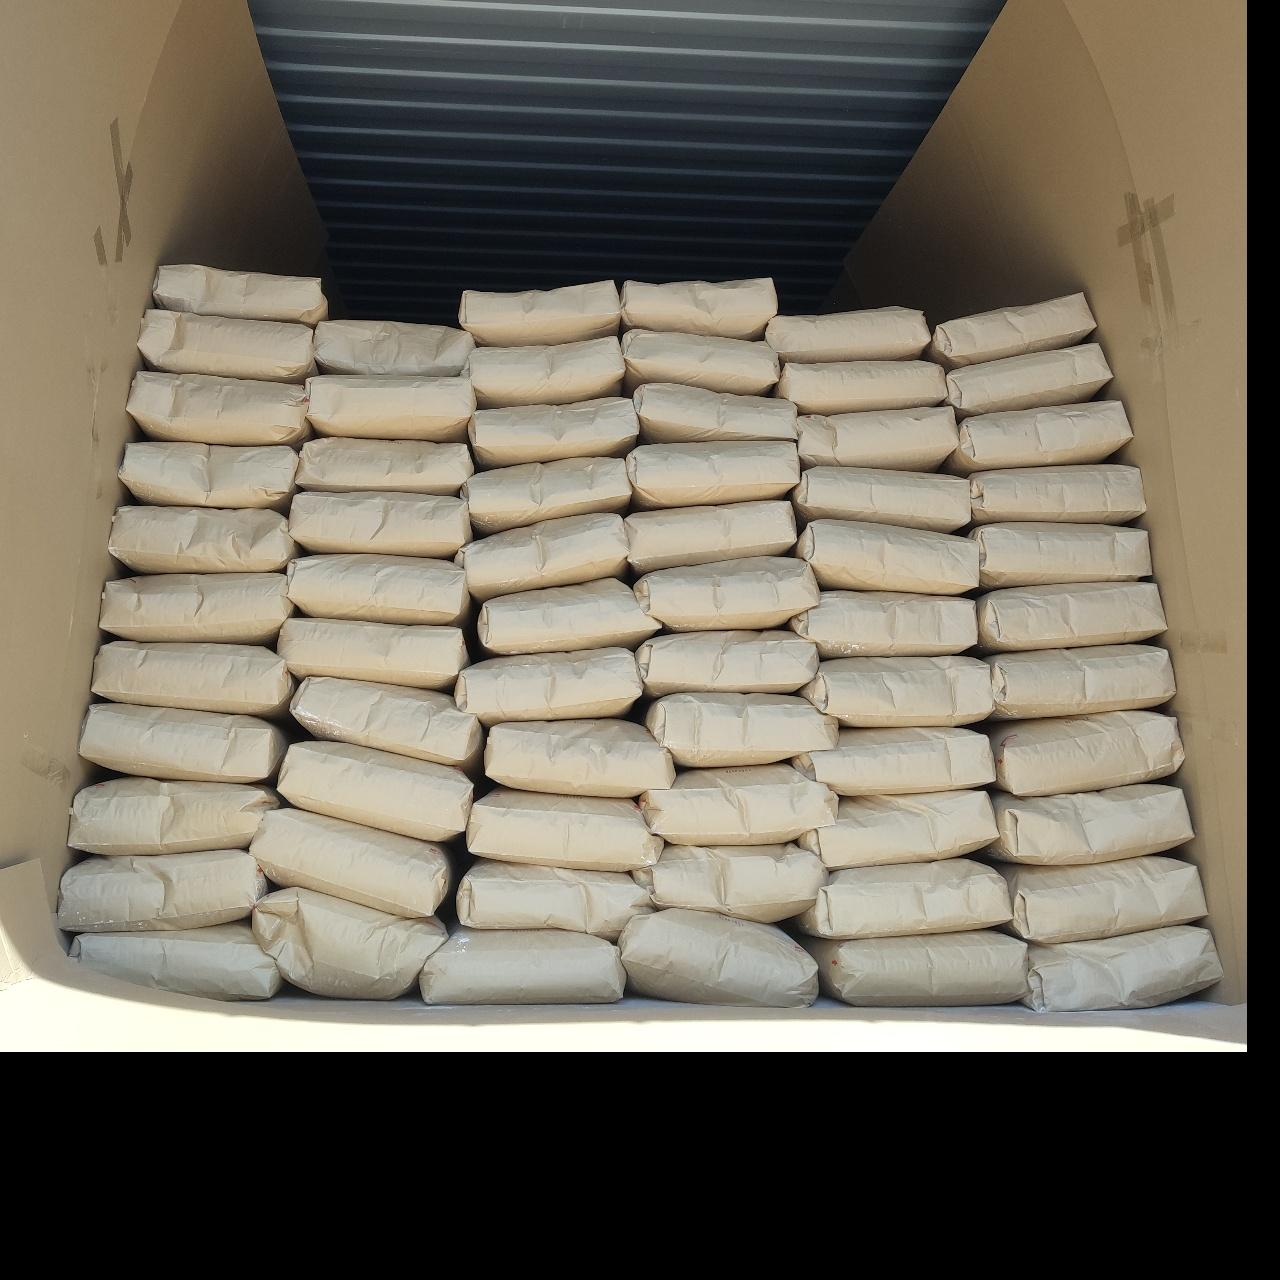sack: (252, 808, 452, 915), (254, 890, 445, 998), (280, 740, 474, 838), (622, 912, 813, 1005), (1000, 856, 1204, 942), (292, 678, 482, 768), (804, 930, 1026, 1005), (60, 850, 266, 930), (1024, 926, 1218, 1010), (70, 776, 278, 855), (798, 858, 1008, 934), (986, 784, 1190, 862), (82, 704, 286, 782), (468, 788, 660, 870), (70, 922, 280, 998), (988, 712, 1182, 792), (799, 790, 996, 866), (642, 764, 836, 840), (458, 860, 651, 937), (94, 642, 292, 716), (422, 930, 622, 1002), (486, 720, 674, 796), (456, 515, 626, 598), (634, 844, 824, 918), (988, 644, 1175, 719), (644, 694, 836, 765), (456, 648, 638, 722), (478, 580, 658, 654), (128, 372, 309, 444), (794, 728, 994, 794), (102, 574, 292, 642), (278, 618, 468, 686), (139, 309, 316, 382), (802, 656, 990, 724), (948, 402, 1130, 472), (638, 558, 816, 629), (978, 583, 1164, 651), (796, 520, 978, 590), (462, 458, 629, 532), (288, 554, 468, 622), (626, 501, 796, 572), (110, 508, 297, 572), (946, 343, 1110, 416), (928, 294, 1094, 366), (638, 629, 818, 694), (790, 592, 976, 654), (290, 492, 470, 556), (792, 467, 966, 532), (122, 442, 294, 508), (971, 524, 1150, 586), (626, 442, 798, 506), (470, 399, 638, 464), (467, 338, 622, 406), (306, 376, 474, 438), (799, 406, 956, 470), (968, 467, 1142, 524), (154, 266, 326, 324), (459, 282, 622, 342), (298, 438, 472, 493), (622, 331, 779, 390), (634, 384, 796, 440), (778, 360, 942, 414), (622, 280, 774, 336), (314, 322, 474, 374), (768, 308, 926, 358)
